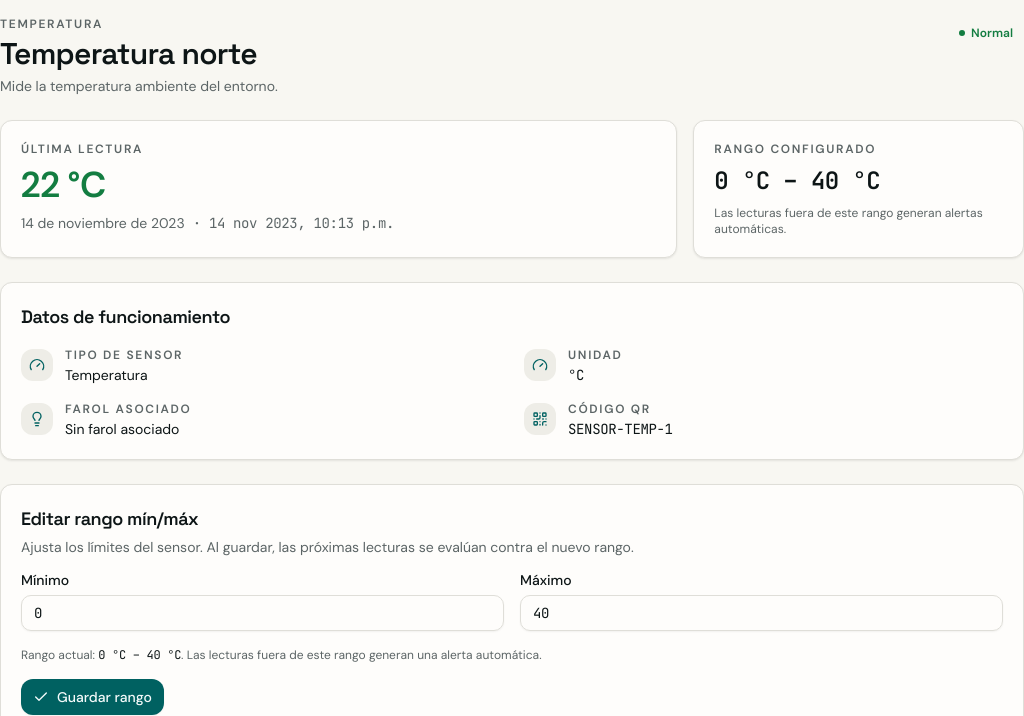
Test: SensorDetailPage — configurable range and automatic alerts › rejects a range whose minimum is not below the maximum
This screenshot has width=1024, height=716.
Replace the text in the number field with test id "sensor.range_min.input" with "50". click: point(262, 613)
box: [21, 595, 504, 631]
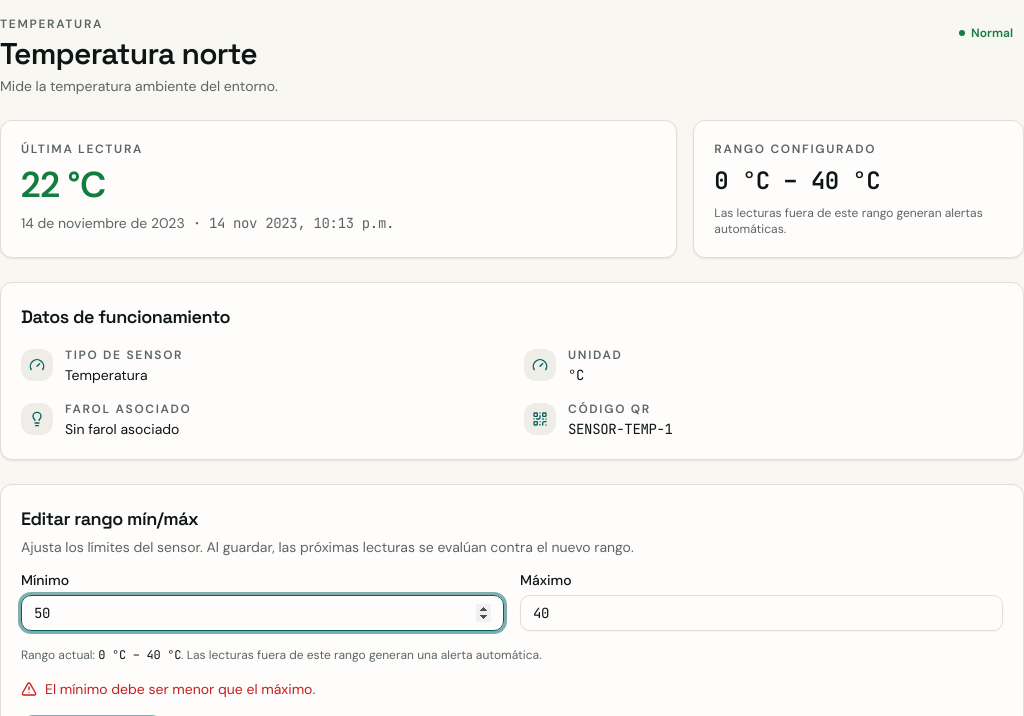
Replace the text in the number field with test id "sensor.range_max.input" with "10". click: point(762, 613)
box: [520, 595, 1003, 631]
(page scrolled)
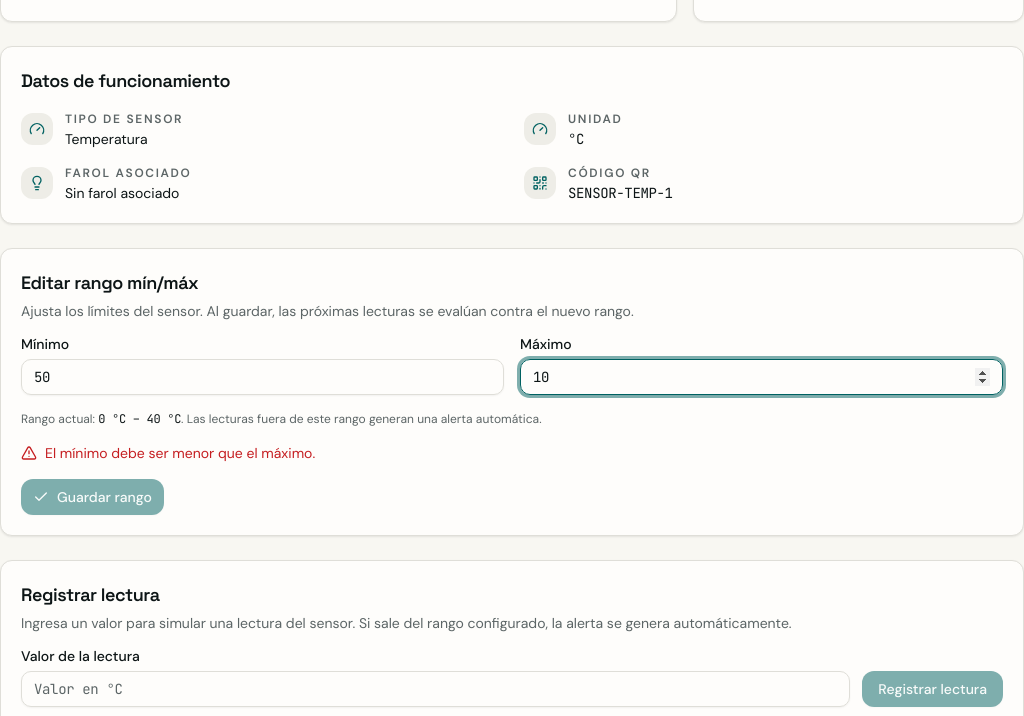
Check: the button with test id "sensor.range_save_button" is disabled, box [21, 479, 164, 515]
Check: the element with test id "sensor.range_error" reads "El mínimo debe ser menor que el máximo.", box [45, 444, 315, 462]
